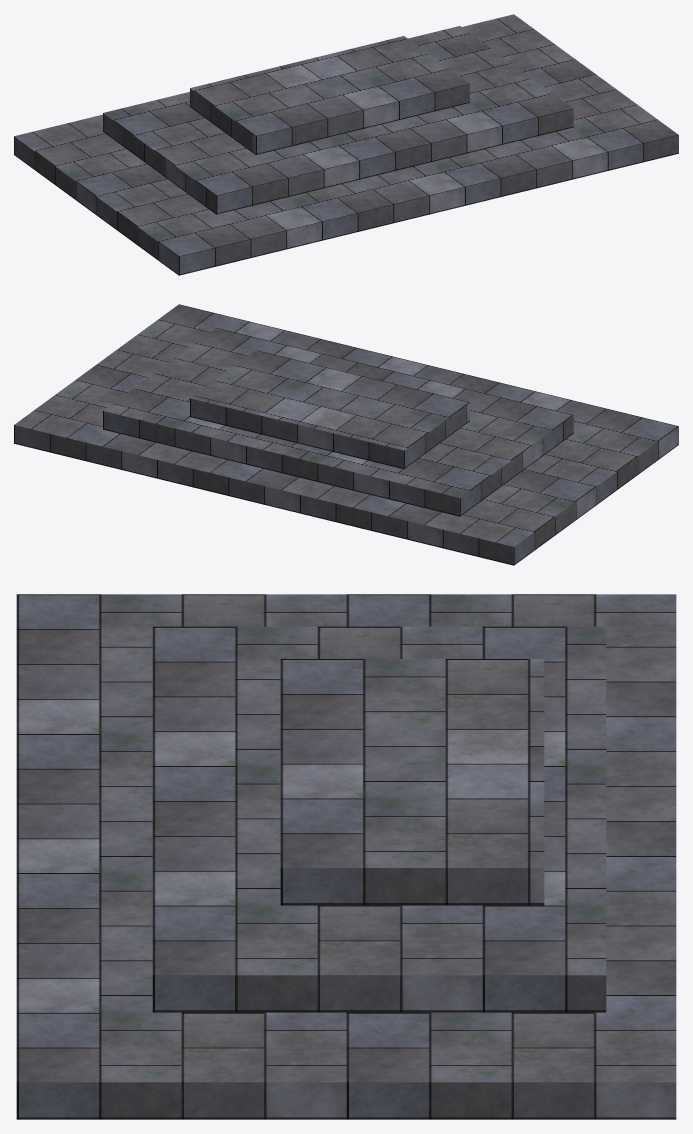
The model's file is SM_dg_dais.glb.
3 views of the same model, one above another, from view 1: azimuth 30°, elevation 25°; view 2: azimuth 150°, elevation 25°; view 3: azimuth 270°, elevation 25° (orthographic). The views are drawn at different scales.
Parts seen in each view (by area): view 1: SM_dg_dais; view 2: SM_dg_dais; view 3: SM_dg_dais.
Part boxes in pixels (box(x1,y1,x2,y2)): SM_dg_dais: box(14, 14, 678, 275); SM_dg_dais: box(14, 304, 678, 565); SM_dg_dais: box(16, 594, 676, 1119).
Size of the model in its own units: 14 by 1.5 by 8.
1 material, 1 textured.
